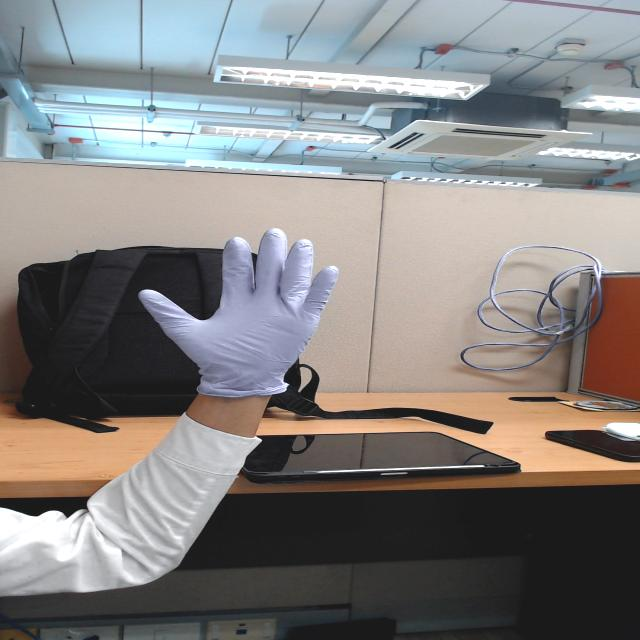glove: (124, 218, 363, 377)
